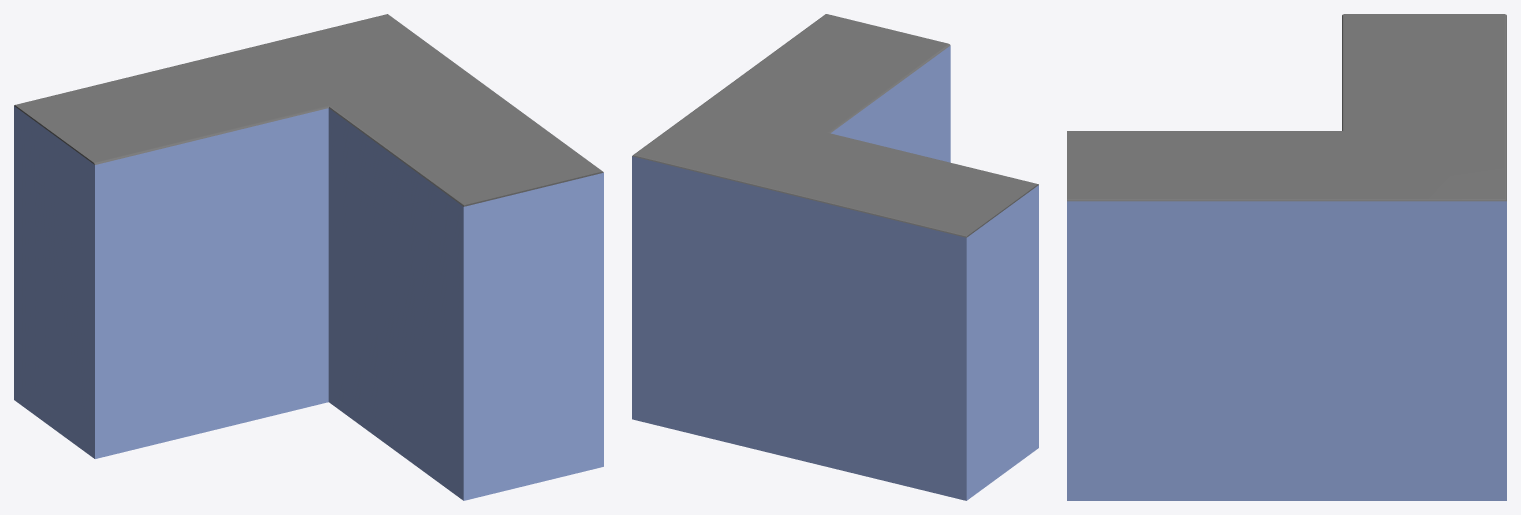
File: block_side_02.fbx
The picture shows the model from 3 angles, left to right: view 1: azimuth 30°, elevation 25°; view 2: azimuth 150°, elevation 25°; view 3: azimuth 270°, elevation 25°; orthographic projection. The views are drawn at different scales.
Parts seen in each view (by area): view 1: block_side_02; view 2: block_side_02; view 3: block_side_02.
Boxes of the visible parts, x1=… form: block_side_02: x1=14, y1=14, x2=603, y2=500; block_side_02: x1=632, y1=14, x2=1038, y2=500; block_side_02: x1=1067, y1=14, x2=1506, y2=500.
Bounding box in the file's own units: 160 × 121 × 160.
